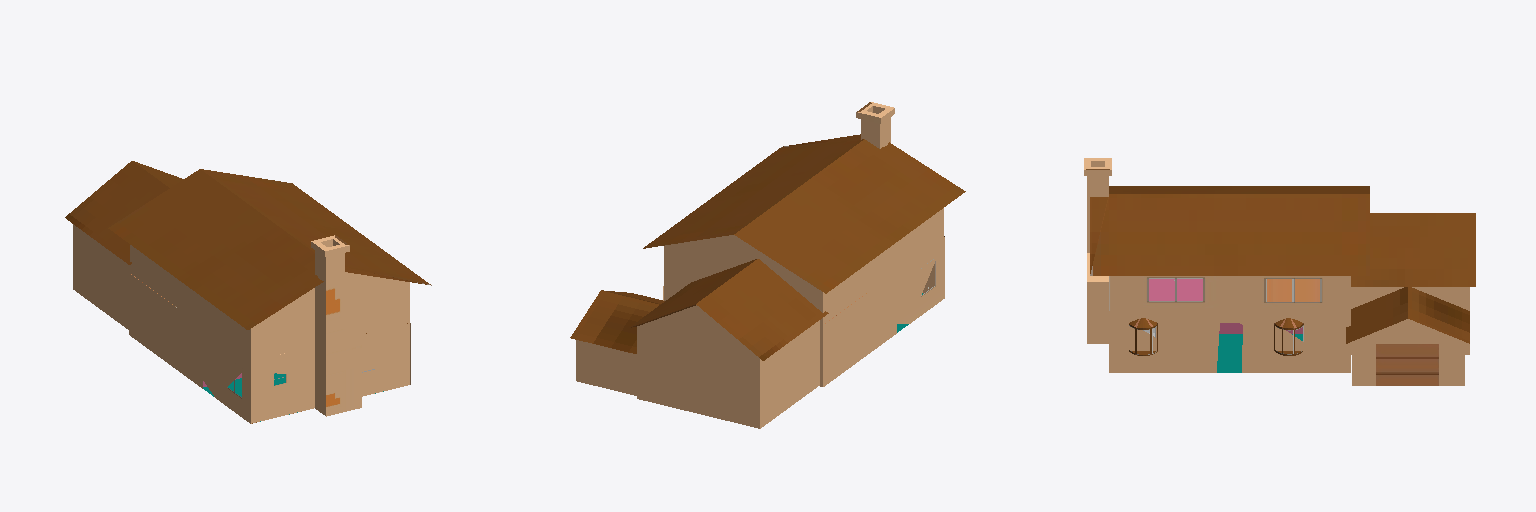
3 renders of one model, left to right at view 1: azimuth 30°, elevation 25°; view 2: azimuth 150°, elevation 25°; view 3: azimuth 270°, elevation 25°, orthographic.
Visible parts, largest first — view 1: Cubo; view 2: Cubo; view 3: Cubo.
Boxes of the visible parts, box(x1,y1,x2,y2) form: Cubo: box(65, 161, 431, 423); Cubo: box(570, 102, 965, 428); Cubo: box(1084, 158, 1475, 385).
Bounding box in the file's own units: 56.98 × 44.14 × 94.01.
Materials: 8 (1 with a texture image).